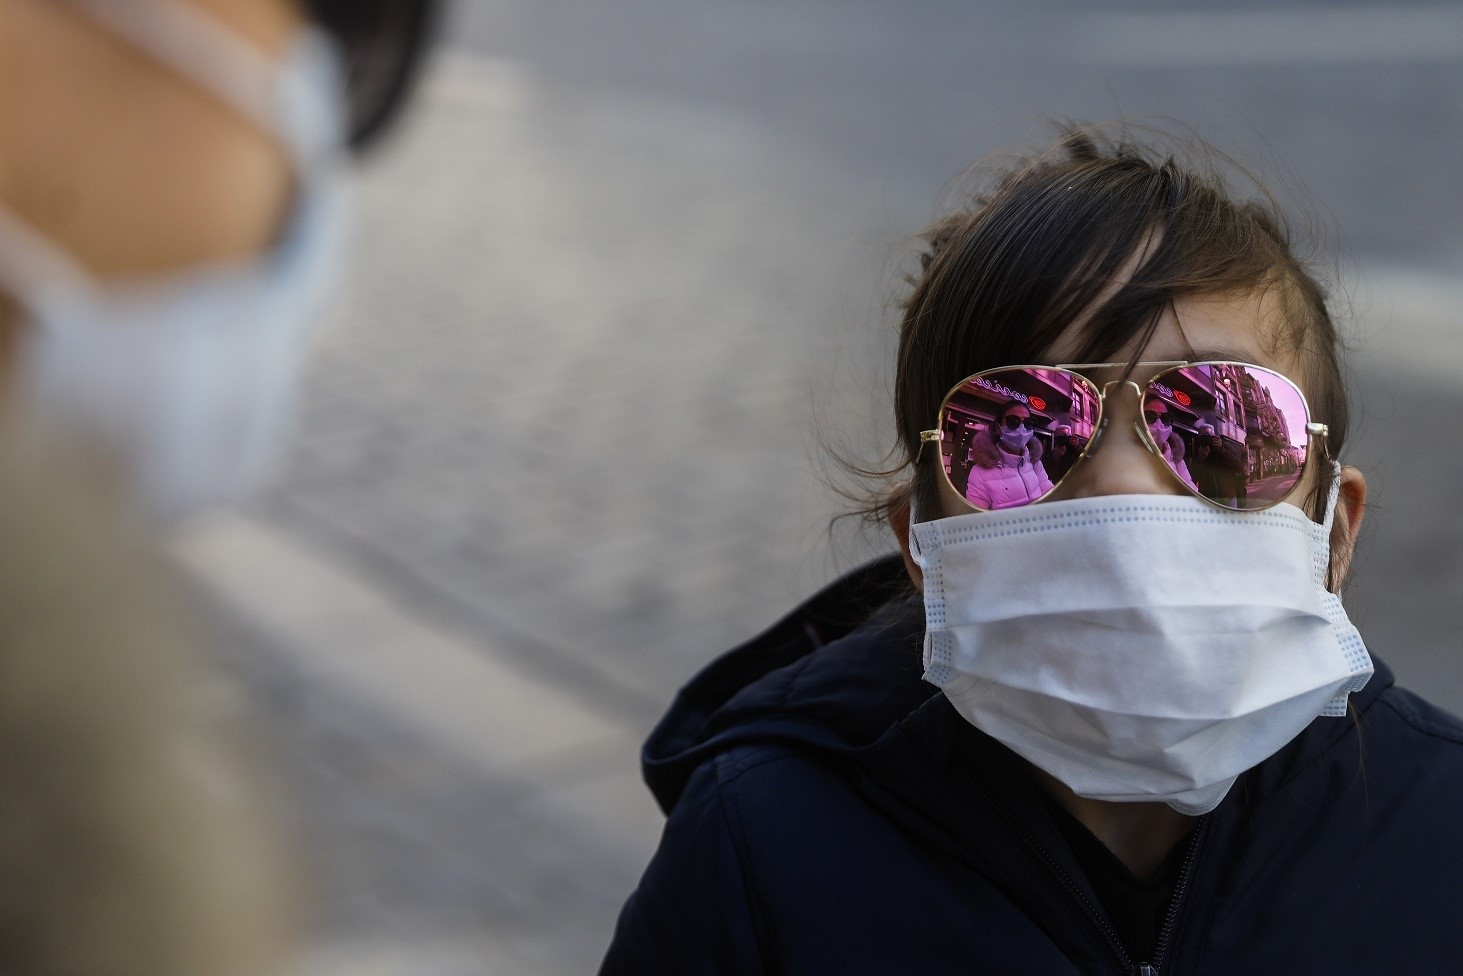face_with_mask: (894, 142, 1364, 804)
